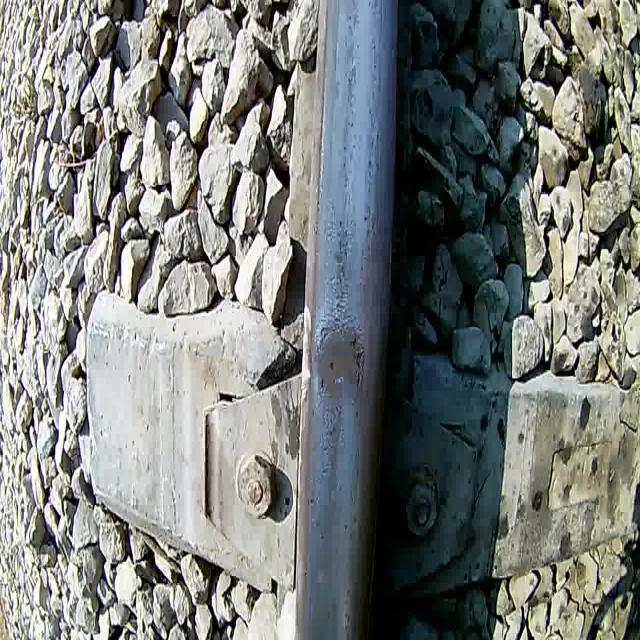Spallings: (344, 323, 366, 395)
Squats: (311, 316, 374, 404)
